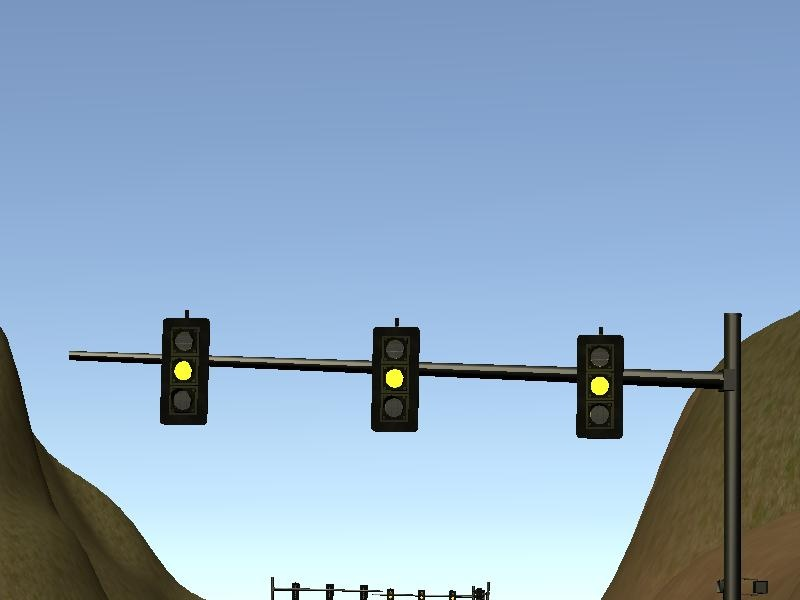YELLOW: (159, 318, 213, 428), (369, 321, 423, 431), (574, 330, 628, 440)
